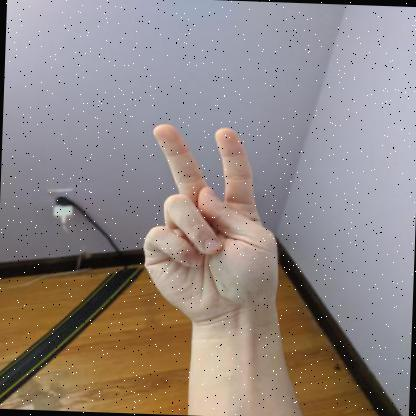K: (143, 124, 279, 325)
